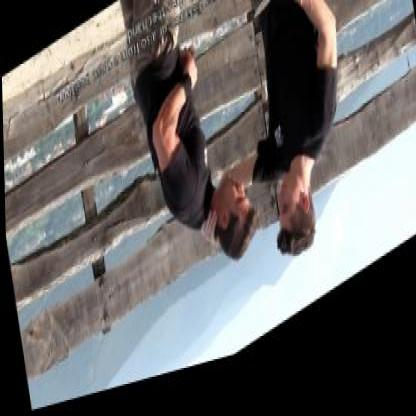knife: (246, 0, 299, 37)
